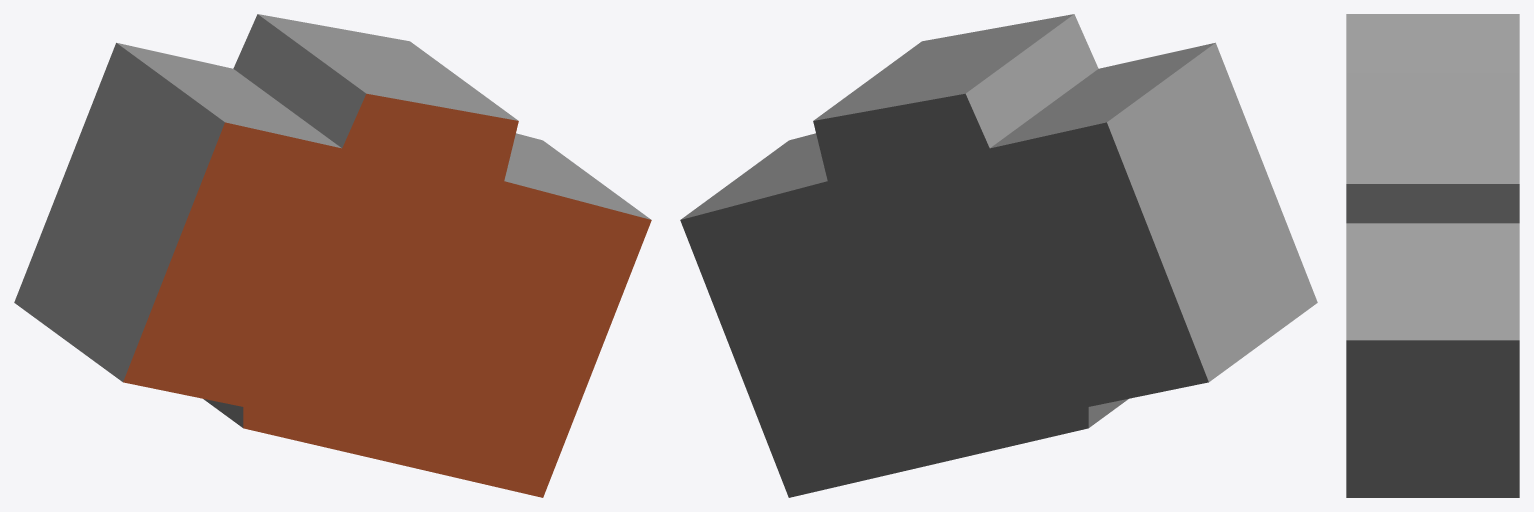
Rendered from construction_0584_assumed_A_Casa_h6m.obj.
3 renders of one model, left to right at view 1: azimuth 30°, elevation 25°; view 2: azimuth 150°, elevation 25°; view 3: azimuth 270°, elevation 25°, orthographic. The views are drawn at different scales.
Parts seen in each view (by area): view 1: construction_0584_assumed_A_Casa; view 2: construction_0584_assumed_A_Casa; view 3: construction_0584_assumed_A_Casa.
Boxes of the visible parts, bbox=[...] form: construction_0584_assumed_A_Casa: bbox=[14, 14, 651, 497]; construction_0584_assumed_A_Casa: bbox=[680, 14, 1317, 497]; construction_0584_assumed_A_Casa: bbox=[1346, 14, 1519, 497].
Bounding box in the file's own units: 16.83 × 13.78 × 6.
